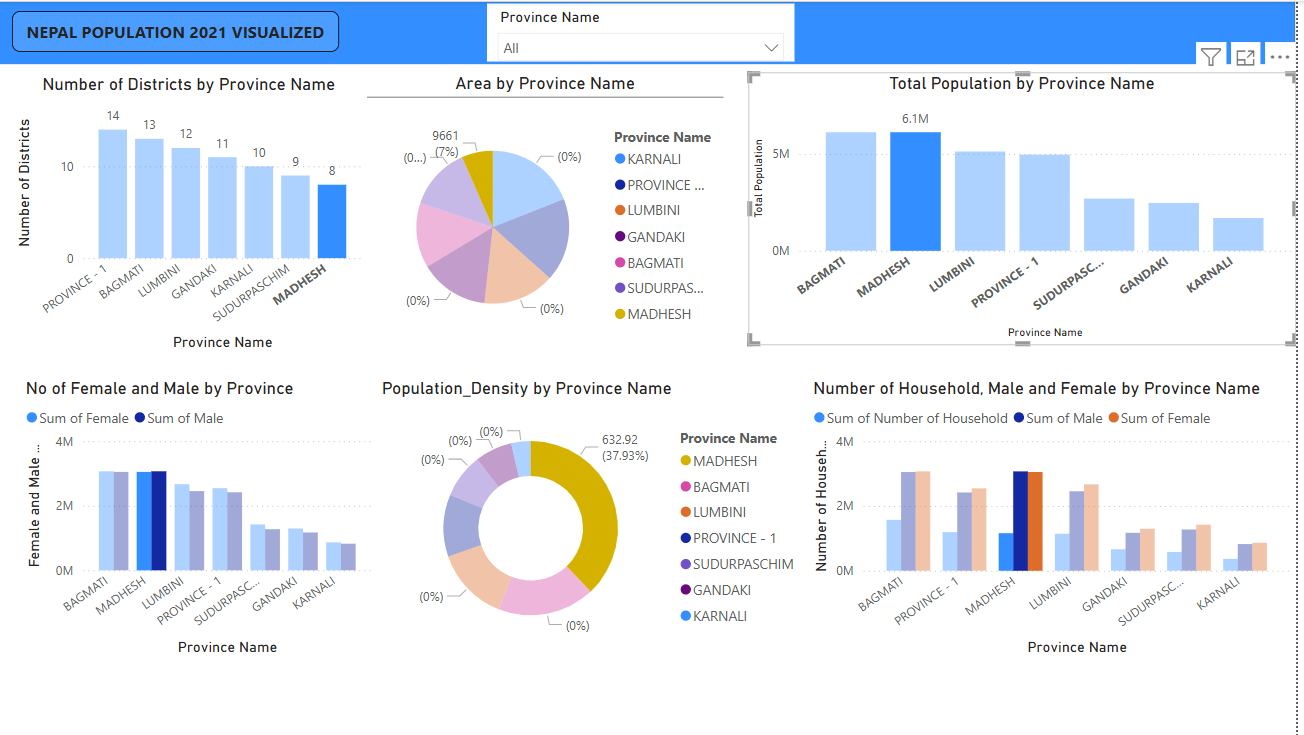

Layout of this report page (visuals, bound fields, positions):
{"tool":"powerbi","page":{"name":"Page 1","canvas":[1280,720],"ordinal":0},"visuals":[{"type":"shape","box":[10,0,1270,62.8],"z":0},{"type":"textbox","box":[24,10,320,40],"z":1000},{"type":"columnChart","title":"Number of Districts by Province Name","fields":{"Category":["Sheet1 (3).Province Name"],"Y":["Sum(Sheet1 (3).Number of Districts)"]},"box":[23.7,71,348.4,275.7],"z":2000},{"type":"pieChart","title":"Area by Province Name","fields":{"Category":["Sheet1 (3).Province Name"],"Y":["Sum(Sheet1 (3).Area)"]},"box":[372.1,70,348.4,276.6],"z":3000},{"type":"columnChart","title":"Total Population by Province Name","fields":{"Category":["Sheet1 (3).Province Name"],"Y":["Sum(Sheet1 (3).Total Population)"]},"box":[744.2,70,535.8,265.6],"z":4000},{"type":"clusteredColumnChart","title":"No of Female and Male by Province","fields":{"Y":["Sum(Sheet1 (3).Female)","Sum(Sheet1 (3).Male)"],"Category":["Sheet1 (3).Province Name"]},"box":[32.8,367.5,348.4,276.6],"z":5000},{"type":"donutChart","title":"Population_Density by Province Name","fields":{"Y":["Sum(Sheet1 (3).Population_Density)"],"Category":["Sheet1 (3).Province Name"]},"box":[381.2,368.4,422.1,276.6],"z":6000},{"type":"clusteredColumnChart","title":"Number of Household, Male and Female by Province Name","fields":{"Category":["Sheet1 (3).Province Name"],"Y":["Sum(Sheet1 (3).Number of Household)","Sum(Sheet1 (3).Male)","Sum(Sheet1 (3).Female)"]},"box":[803,368,477,277],"z":7000},{"type":"slicer","fields":{"Values":["Sheet1 (3).Province Name"]},"box":[489.2,2.9,300.5,56.4],"z":8000}]}

Visuals, with their boxes in screenshot pixels (x1, y1, x2, y2), scaled from the page's 1280x720 canvas onto the 1304x735 screenshot:
shape: [10, 0, 1303, 64]
textbox: [24, 10, 350, 51]
"Number of Districts by Province Name" columnChart: [24, 72, 379, 354]
"Area by Province Name" pieChart: [379, 71, 734, 354]
"Total Population by Province Name" columnChart: [758, 71, 1303, 343]
"No of Female and Male by Province" clusteredColumnChart: [33, 375, 388, 658]
"Population_Density by Province Name" donutChart: [388, 376, 818, 658]
"Number of Household, Male and Female by Province Name" clusteredColumnChart: [818, 376, 1303, 658]
slicer - Sheet1 (3).Province Name: [498, 3, 805, 61]
